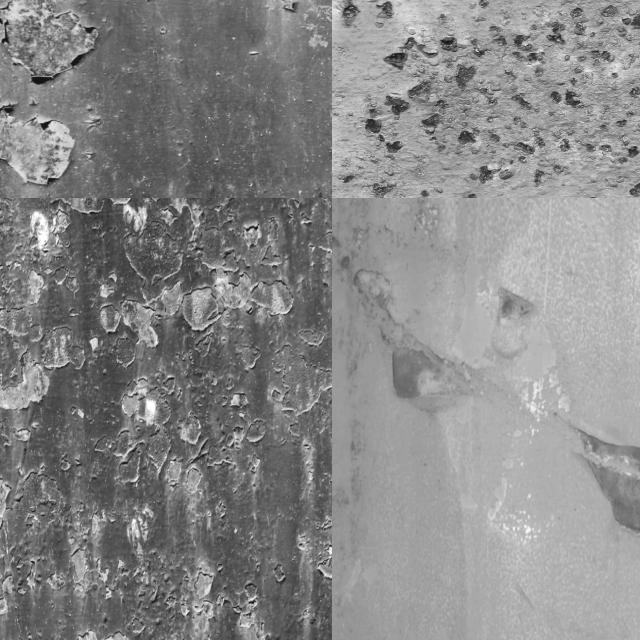Pitting Corrosion: (332, 0, 640, 198)
Uniform Corrosion: (576, 429, 640, 533), (0, 100, 76, 185), (0, 351, 49, 408), (0, 562, 39, 615), (160, 265, 193, 324), (120, 301, 157, 346), (121, 379, 157, 425), (215, 267, 251, 308), (296, 519, 319, 557), (71, 548, 87, 580), (230, 392, 252, 415), (194, 572, 213, 598), (28, 270, 43, 302), (227, 425, 247, 449), (243, 224, 261, 247), (184, 468, 201, 492), (167, 460, 181, 488), (44, 573, 65, 591), (240, 604, 255, 628), (268, 217, 278, 241), (160, 209, 174, 225), (142, 198, 158, 202)
